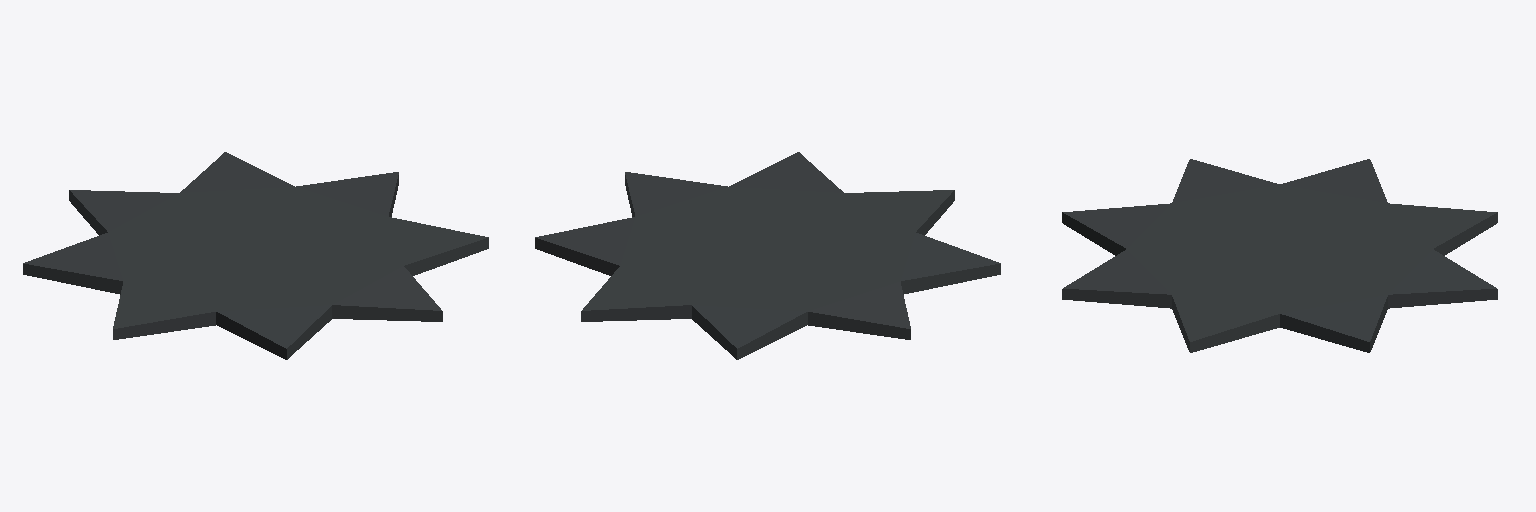
Rendered from Object_Blade.obj.
3 renders of one model, left to right at view 1: azimuth 30°, elevation 25°; view 2: azimuth 150°, elevation 25°; view 3: azimuth 270°, elevation 25°, orthographic.
Bounding box in the file's own units: 1.19 × 0.042 × 1.19.